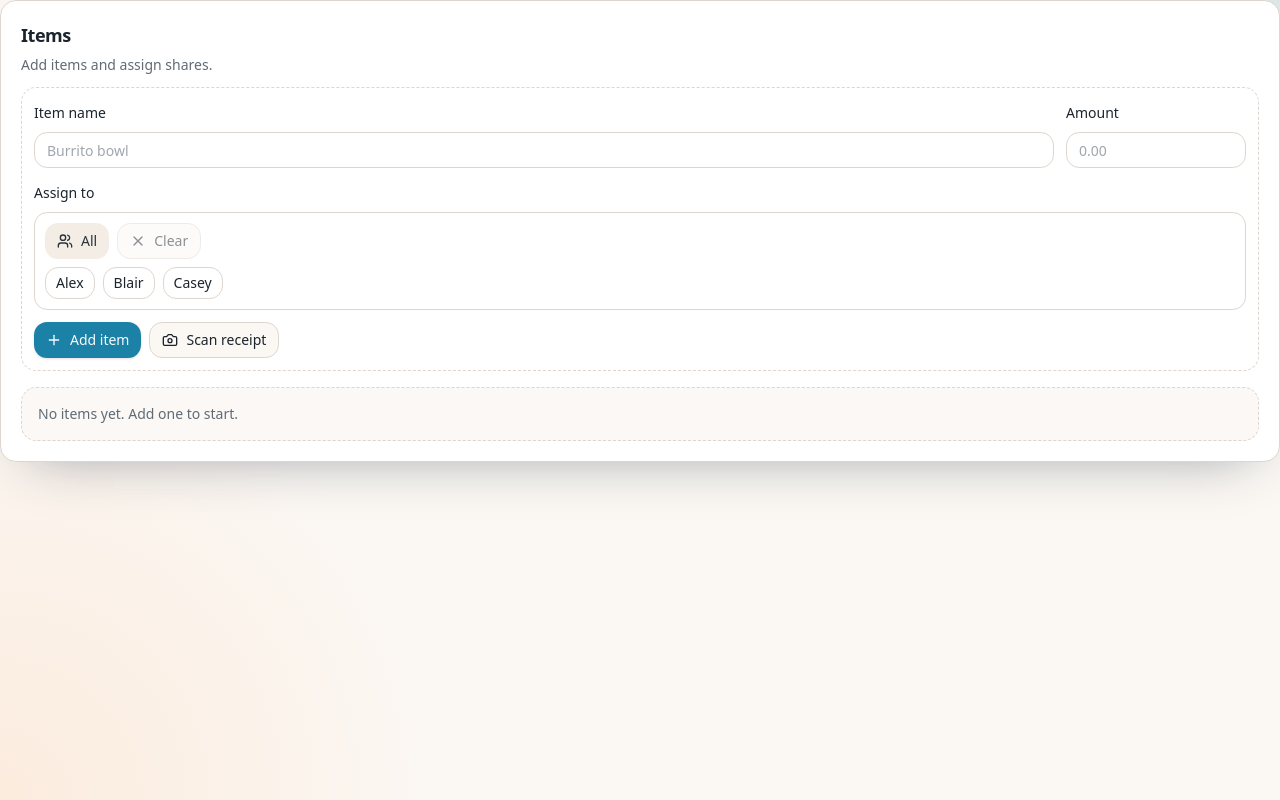
Test: ItemSection › adds an item assigned to a participant subset through chips
The image size is (1280, 800).
In the field labelled "Item name": (544, 150) [34,132,1054,168], type "Nachos"
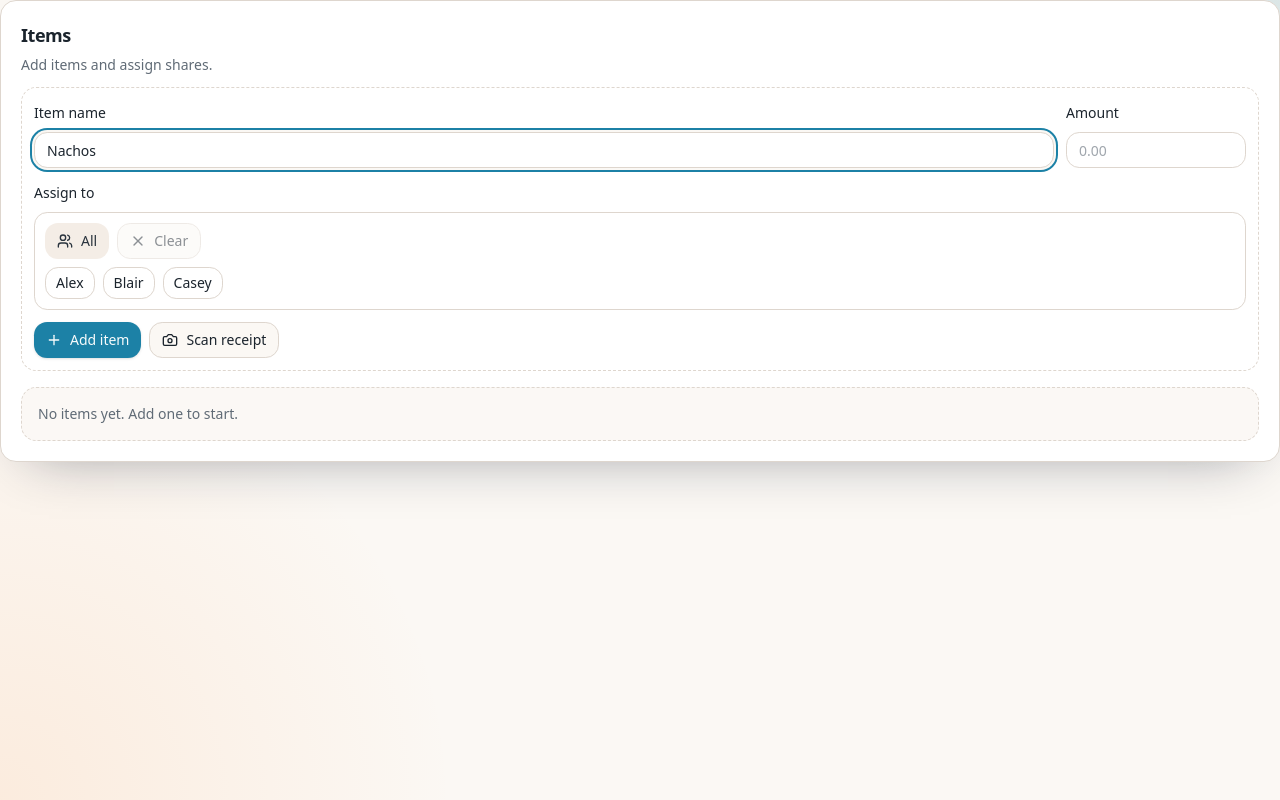
In the field labelled "Amount": (1156, 150) [1066,132,1246,168], type "12.50"
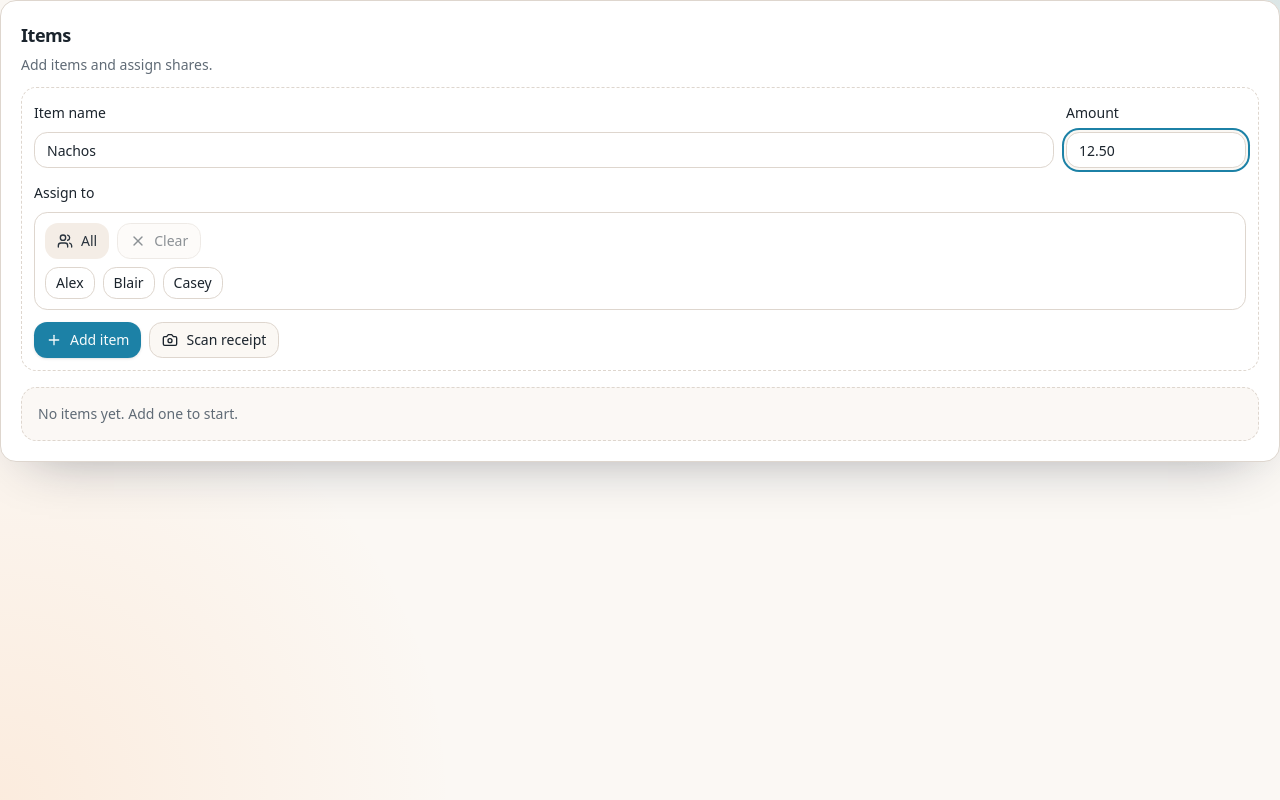
Click the button with aria-label "Assign Alex": (70, 283) [45,267,95,299]
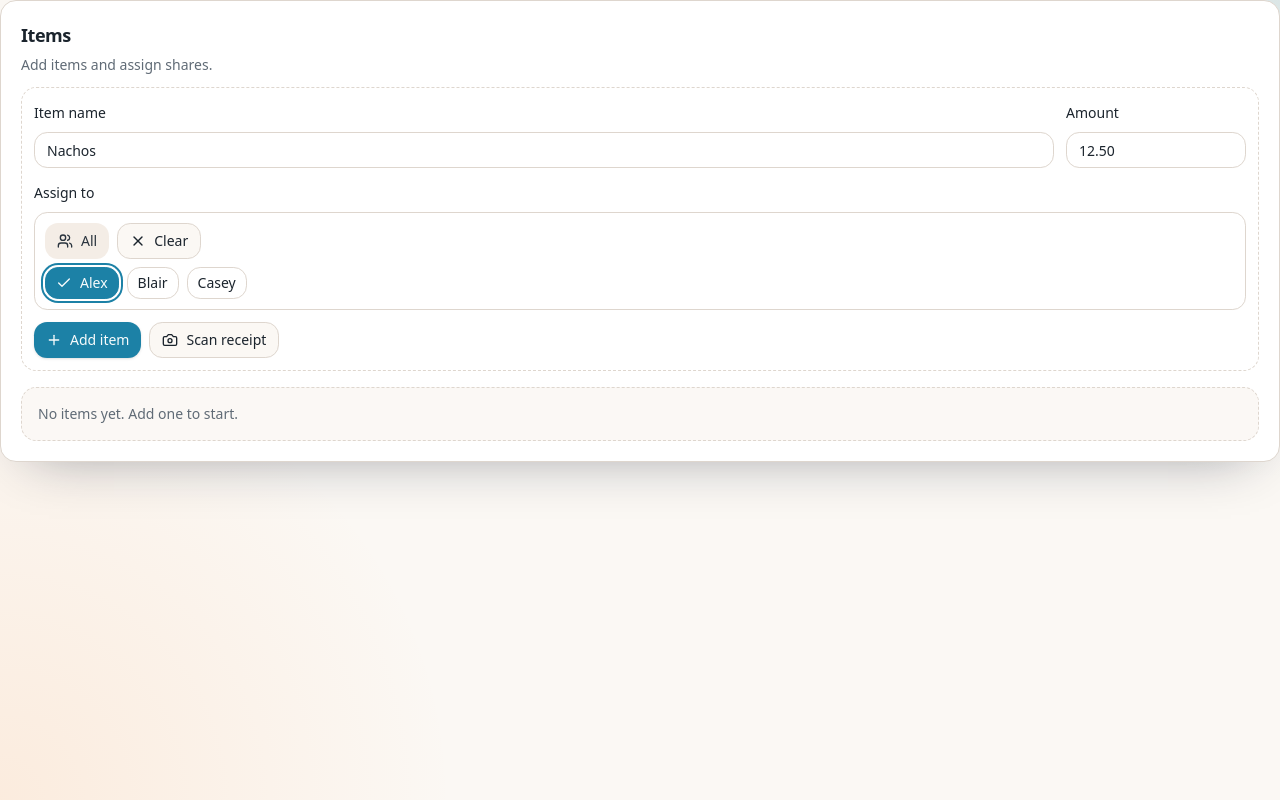
Click the button with aria-label "Assign Casey": (217, 283) [187,267,247,299]
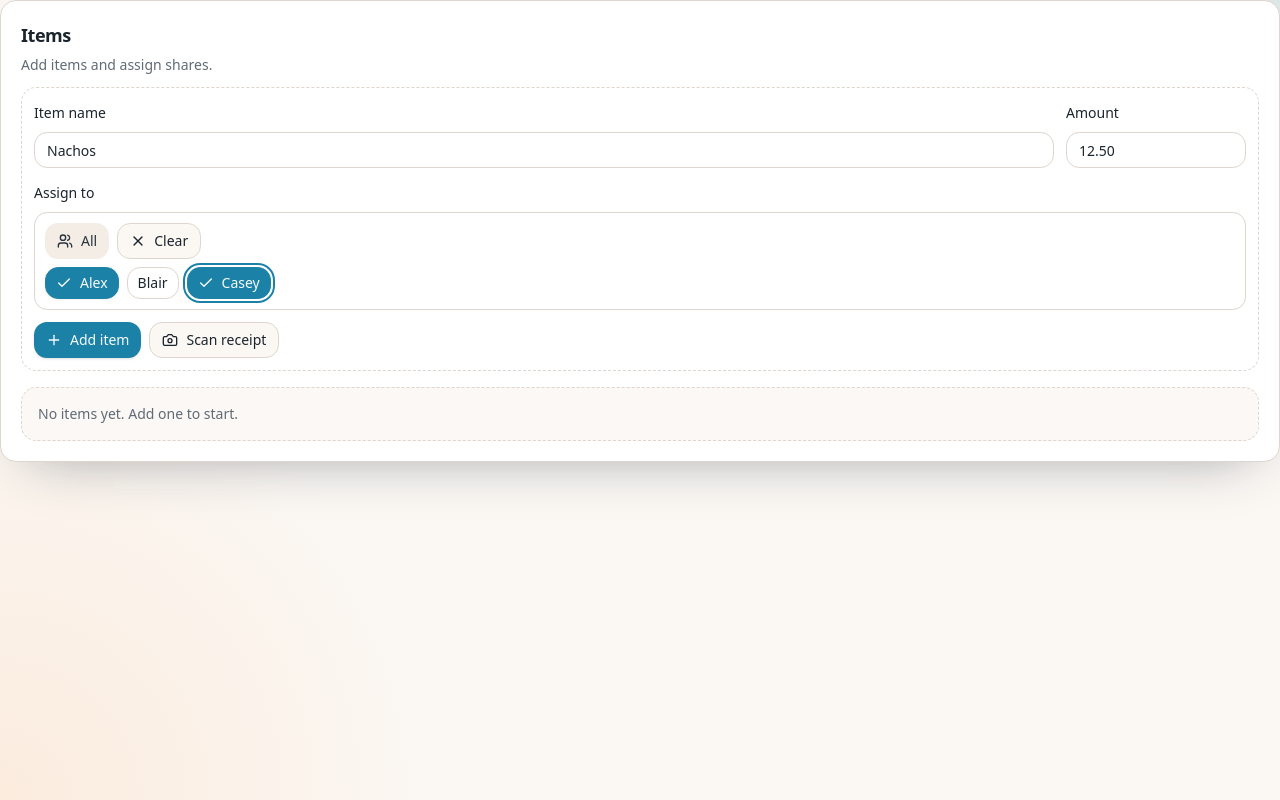
Click the button "Add item": (88, 340) [34,322,142,358]
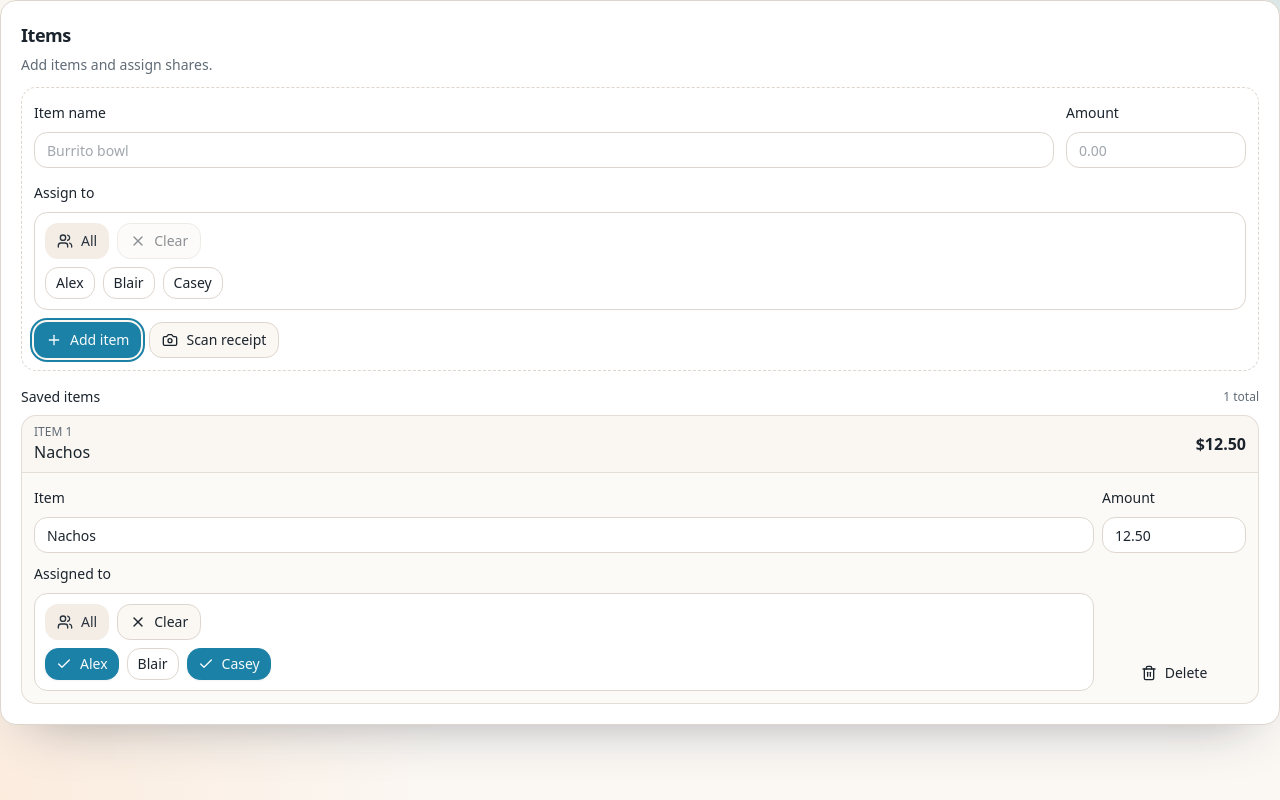
Check: the text "Nachos" is shown, box [34,440,90,464]
